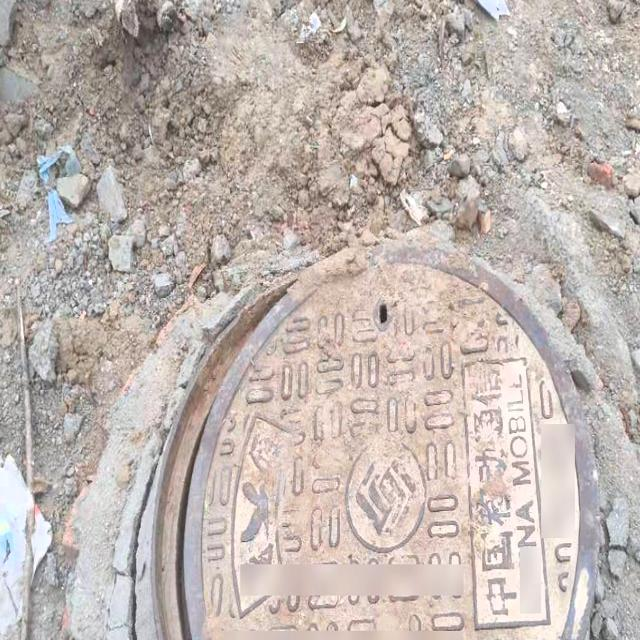uncovered: (152, 234, 600, 640)
